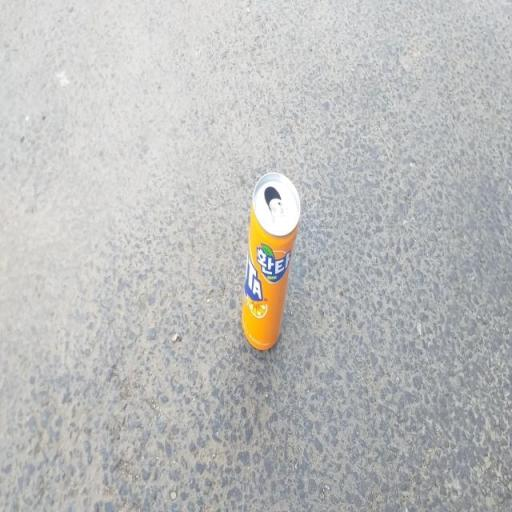metal: (231, 154, 307, 366)
